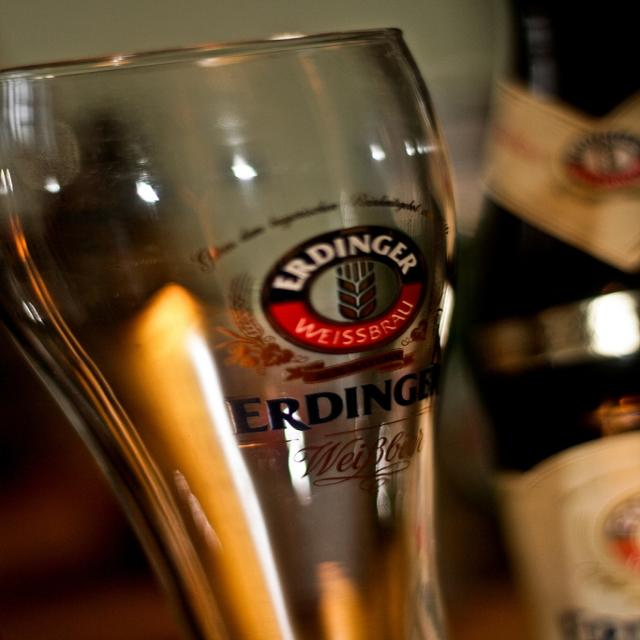erdinger: (193, 191, 458, 448)
